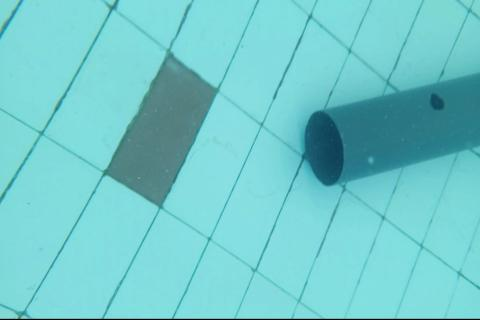kebocoran: (429, 92, 445, 112)
